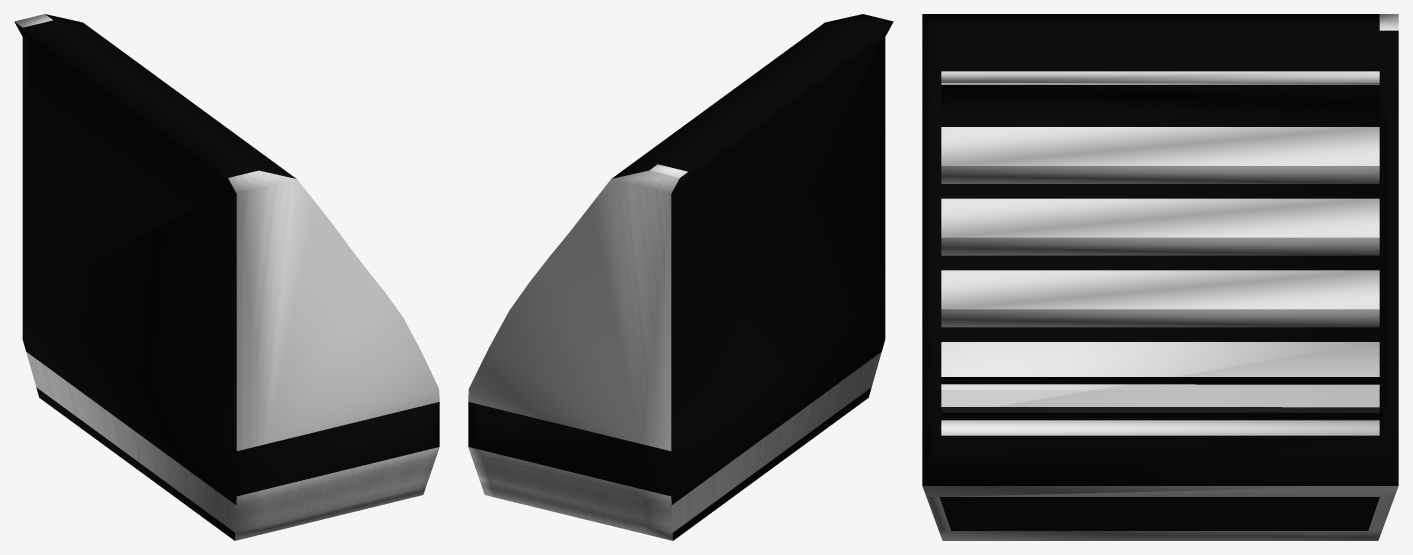
The model's file is heladera.fbx.
3 renders of one model, left to right at view 1: azimuth 30°, elevation 25°; view 2: azimuth 150°, elevation 25°; view 3: azimuth 270°, elevation 25°, orthographic. The views are drawn at different scales.
Parts seen in each view (by area): view 1: Cube; view 2: Cube; view 3: Cube.
Boxes of the visible parts, x1=… form: Cube: x1=14, y1=14, x2=439, y2=540; Cube: x1=468, y1=14, x2=893, y2=540; Cube: x1=922, y1=14, x2=1398, y2=540.
Size of the model in its own units: 305 by 514 by 533.
5 materials, 1 textured.
